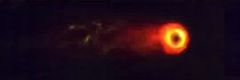keyhole: (170, 32, 183, 47)
